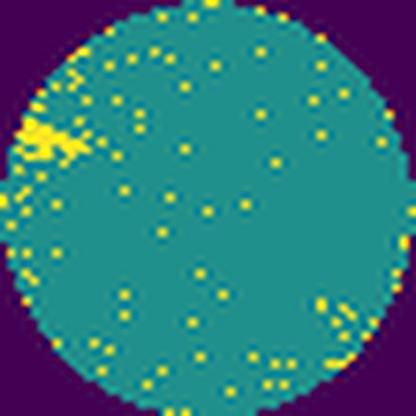Loc: (16, 119, 94, 166)
